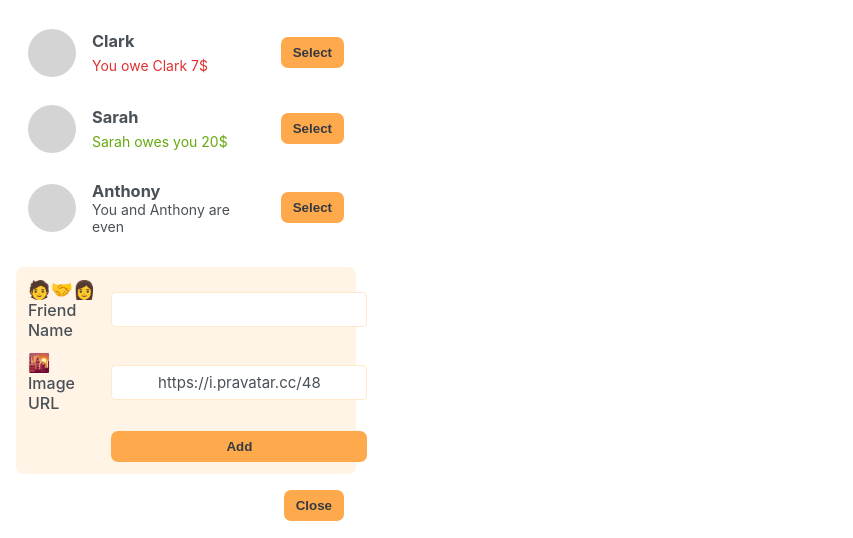
App component test suite › should render FormSplitBill if the FriendListItem Select button is clicked
Click the button "Select" in the row of "You owe": (312, 53) left=281, top=37, right=344, bottom=68
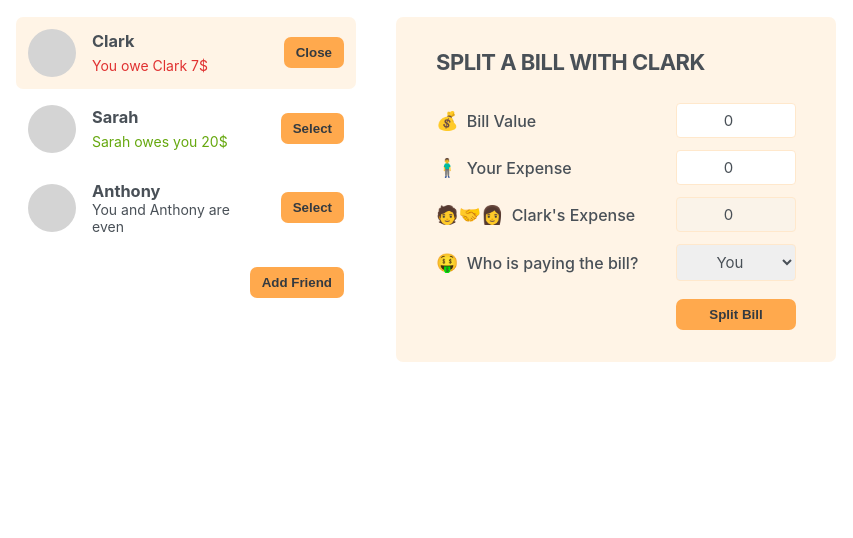
Check: the form with test id "formSplitBill" is shown, box left=396, top=17, right=836, bottom=362
Check: the button "Select" reads "Close", box left=284, top=37, right=344, bottom=68
